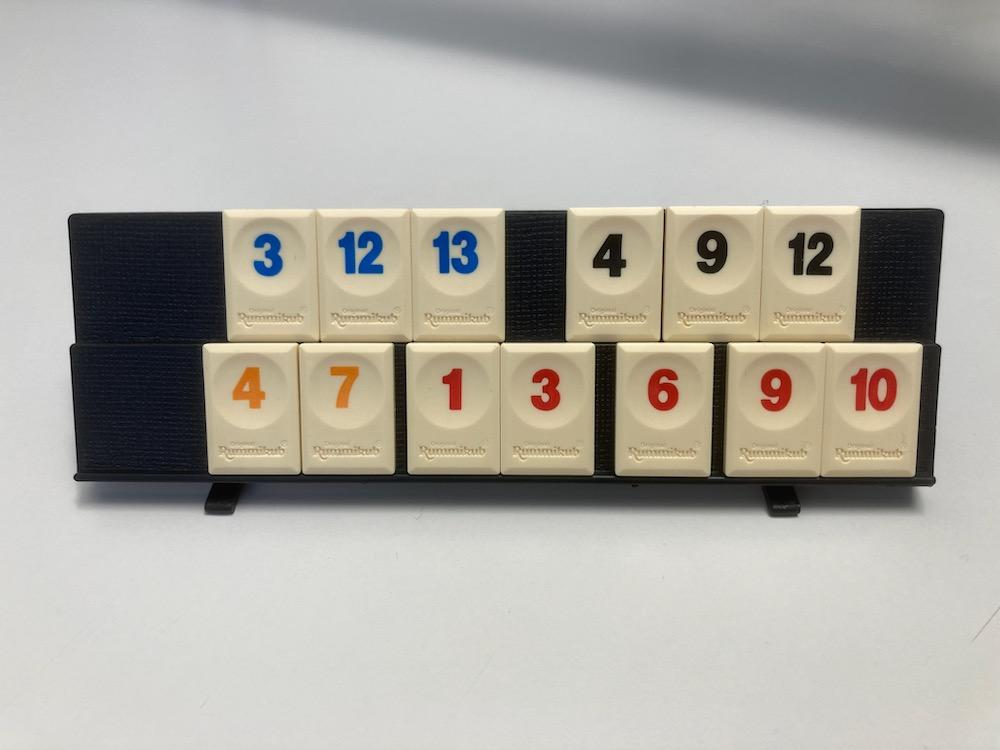black_12: (760, 205, 861, 342)
black_4: (566, 207, 664, 340)
black_9: (662, 207, 762, 342)
blue_12: (317, 211, 410, 342)
blue_13: (412, 212, 506, 342)
blue_3: (223, 209, 320, 342)
orange_4: (203, 344, 300, 473)
orange_7: (299, 344, 396, 475)
red_1: (407, 344, 500, 475)
red_10: (820, 345, 922, 477)
red_3: (502, 344, 594, 475)
red_6: (615, 345, 713, 477)
red_9: (725, 342, 824, 477)
